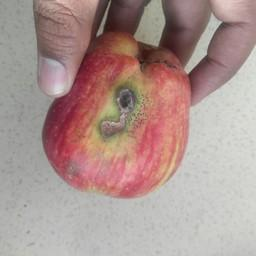Bad_apple: (35, 33, 191, 203)
